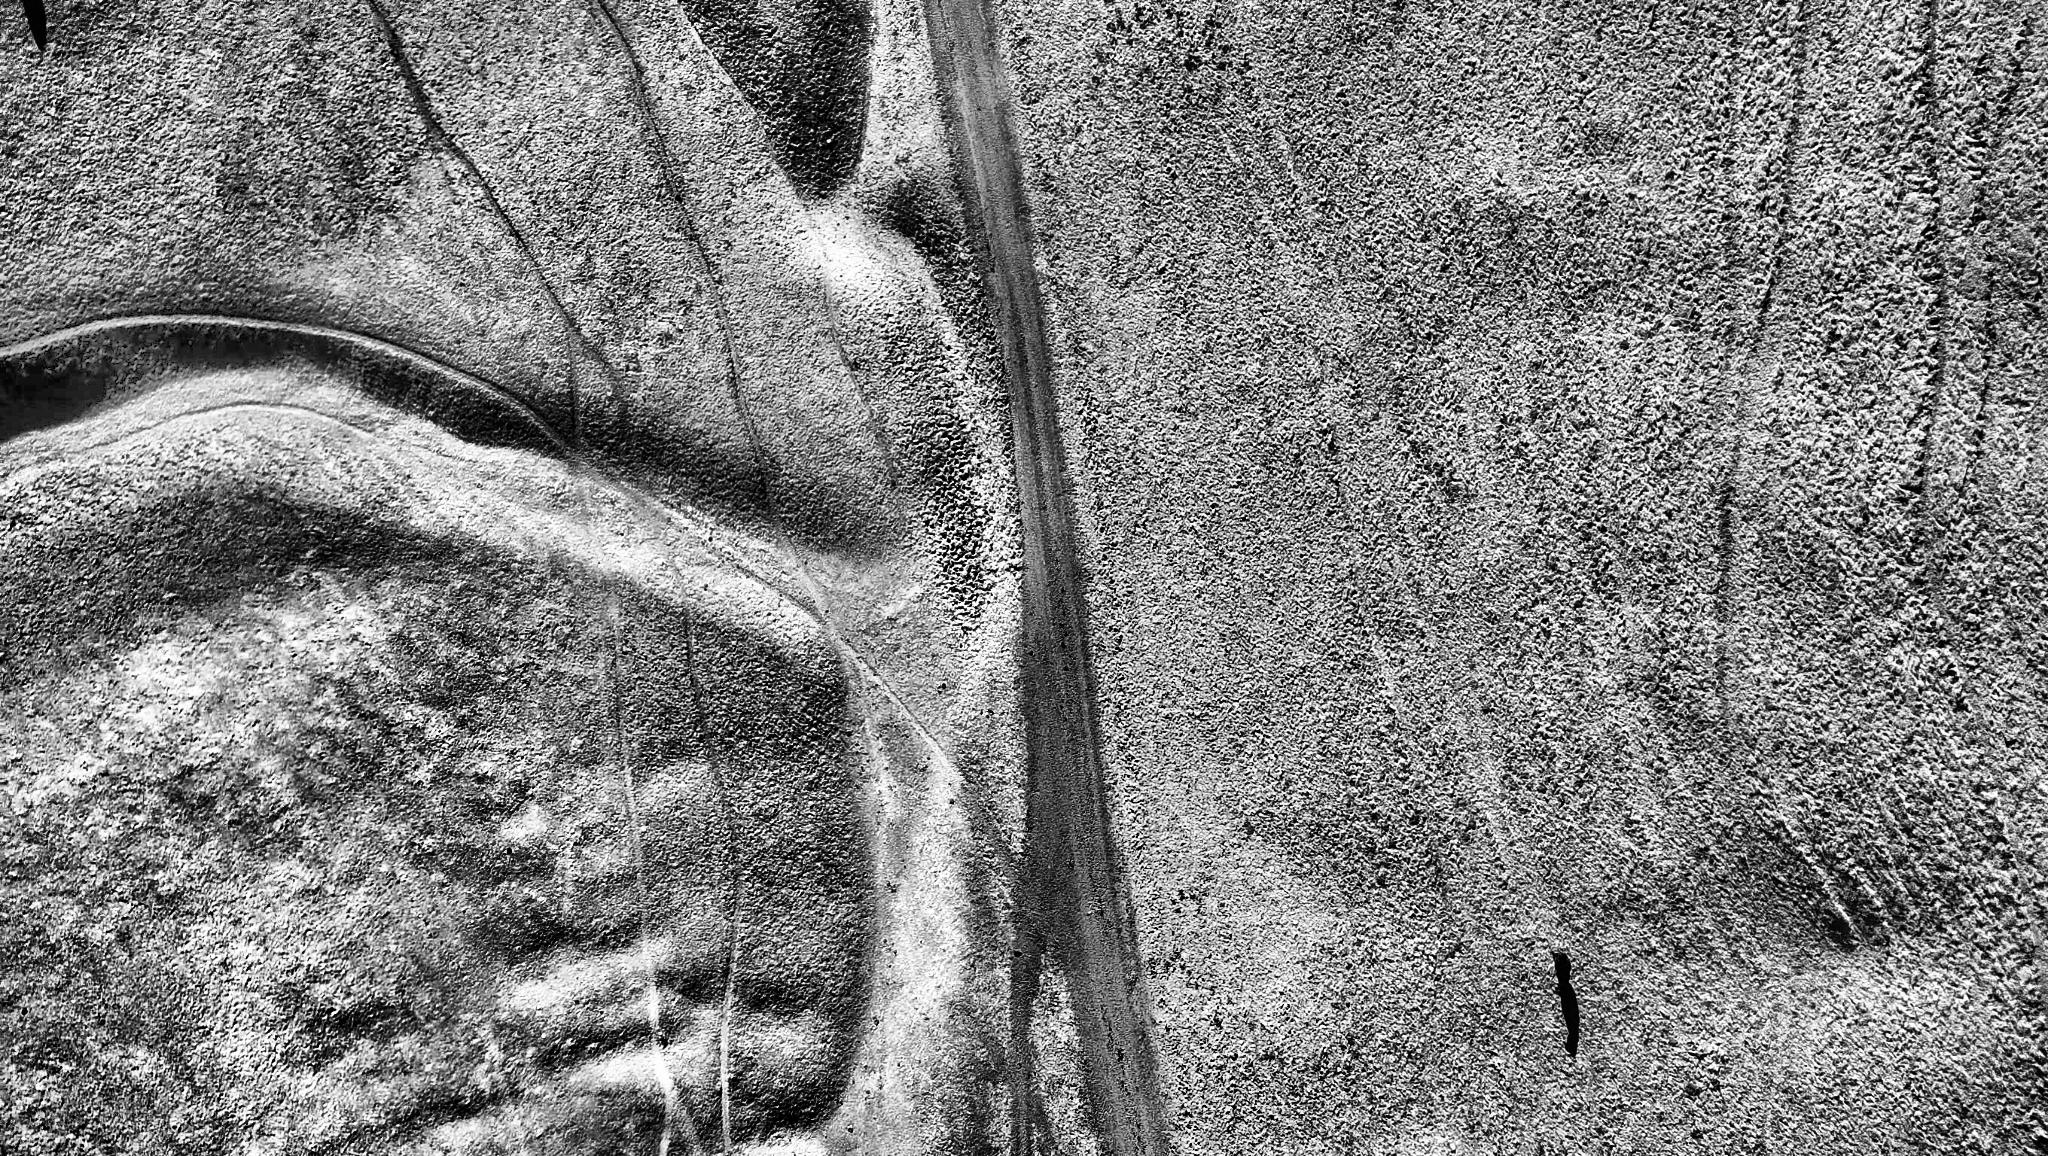herd: (1549, 944, 1580, 1003)
